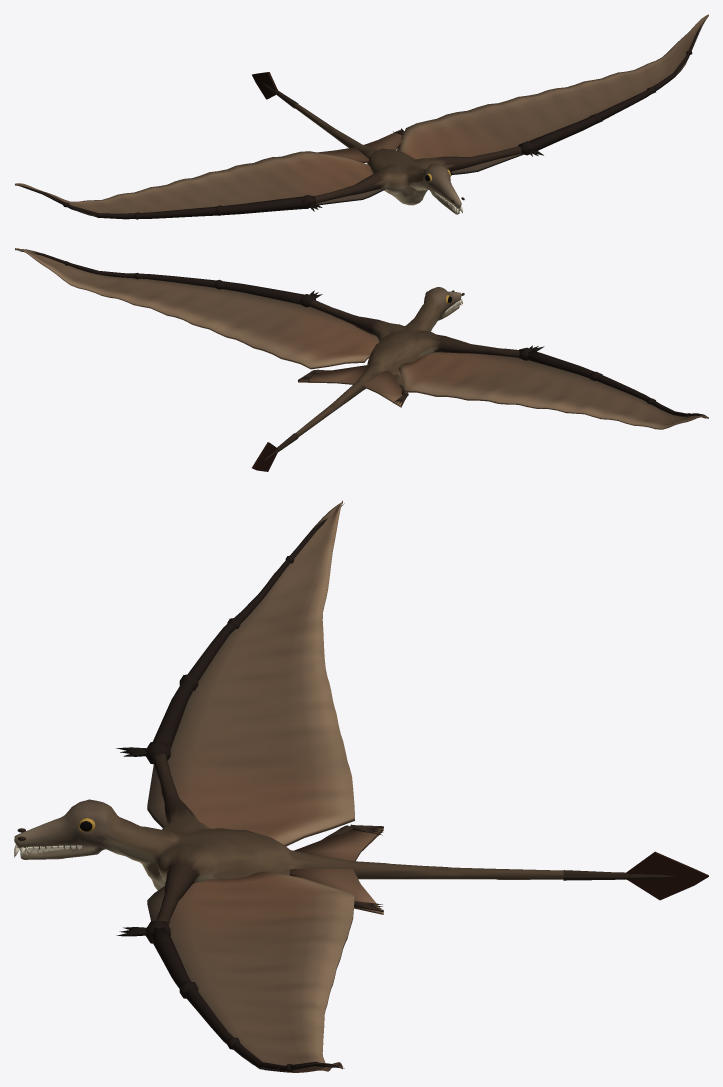
Rendered from Eudimorphodon.fbx.
The picture shows the model from 3 angles, top to bottom: view 1: azimuth 30°, elevation 25°; view 2: azimuth 150°, elevation 25°; view 3: azimuth 270°, elevation 25°; orthographic projection. The views are drawn at different scales.
Visible parts, largest first — view 1: Eudimorphodon; view 2: Eudimorphodon; view 3: Eudimorphodon.
Part boxes in pixels (x1,y1,x2,y2): Eudimorphodon: (15,14,708,219); Eudimorphodon: (15,248,708,471); Eudimorphodon: (14,500,708,1072).
Bounding box in the file's own units: 1.64 × 0.1589 × 0.8506.
